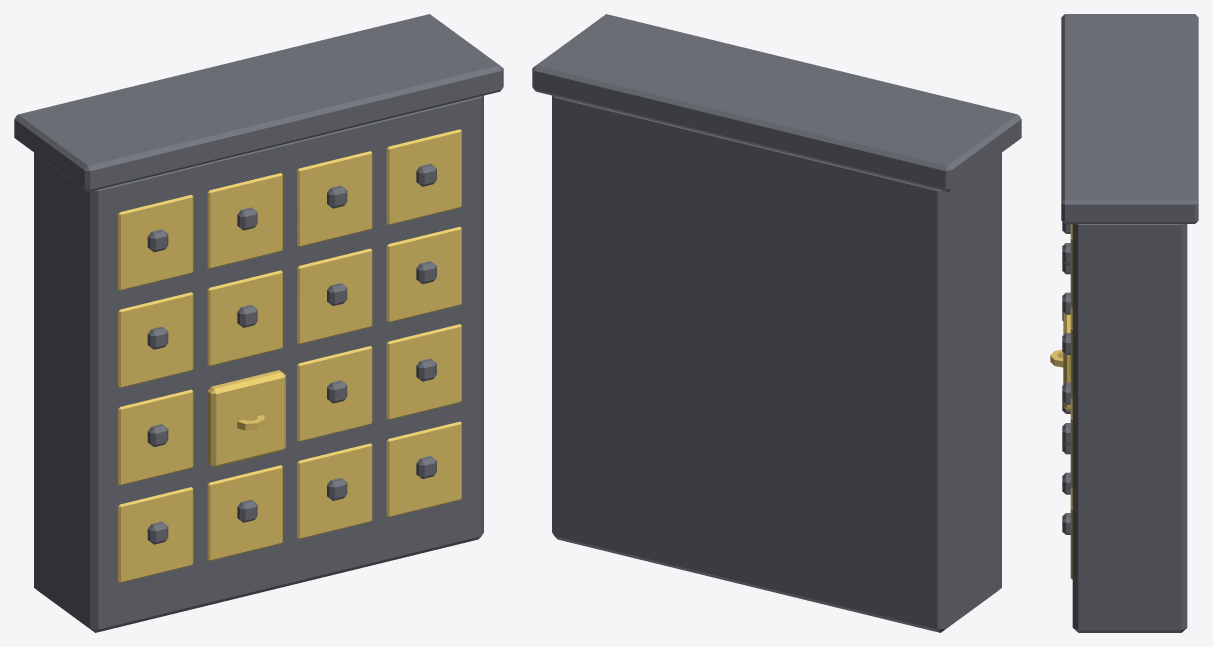
Rendered from fantasy-mmo-city-and-townsfolk-bank-deposit-boxes-c298b7df__32751.glb.
3 renders of one model, left to right at view 1: azimuth 30°, elevation 25°; view 2: azimuth 150°, elevation 25°; view 3: azimuth 270°, elevation 25°, orthographic. The views are drawn at different scales.
Visible parts, largest first — view 1: bank-deposit-boxes, drawer-box; view 2: bank-deposit-boxes; view 3: bank-deposit-boxes, drawer-box.
Part boxes in pixels (x1,y1,x2,y2): bank-deposit-boxes: (14,14,503,632); drawer-box: (207,370,285,467); bank-deposit-boxes: (532,14,1021,632); bank-deposit-boxes: (1061,14,1198,632); drawer-box: (1050,312,1070,410).
Bounding box in the file's own units: 2.34 × 2.54 × 0.778.
